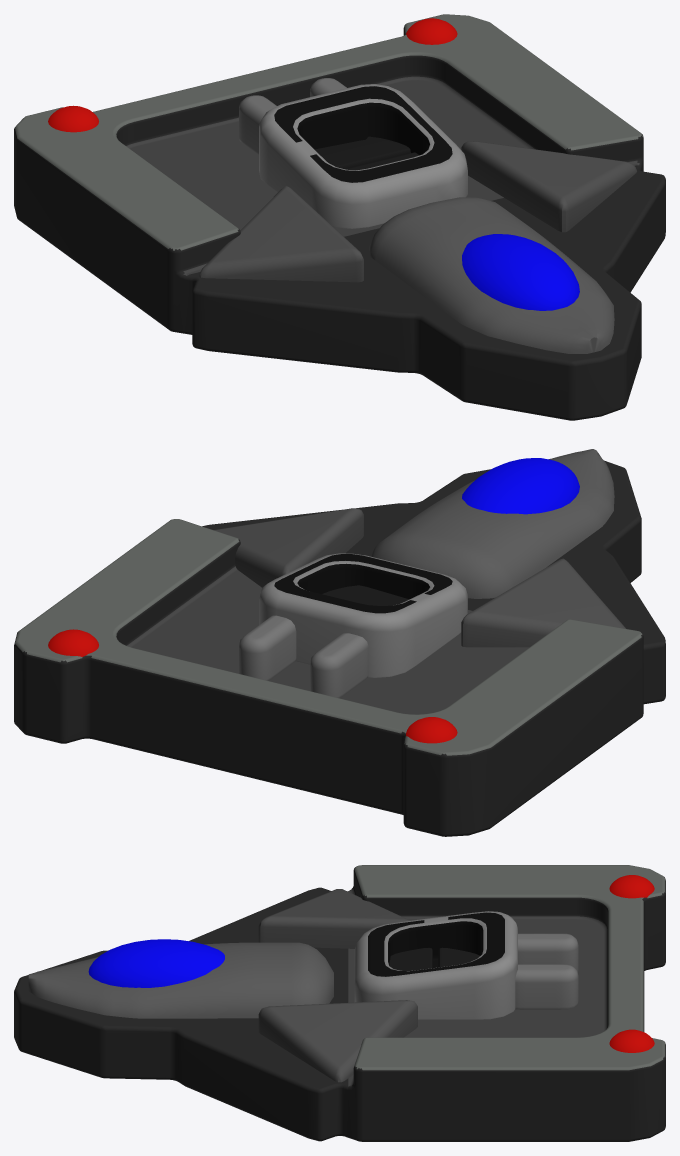
File: hatch_ship.glb
3 renders of one model, top to bottom at view 1: azimuth 30°, elevation 25°; view 2: azimuth 150°, elevation 25°; view 3: azimuth 270°, elevation 25°, orthographic. The views are drawn at different scales.
Parts seen in each view (by area): view 1: hull, hood, keel, plate-1, plate1, canopy, lid1, prong0, lamp1, lamp0; view 2: hull, hood, keel, plate-1, plate1, canopy, prong0, prong1, lamp1, lamp0, lid0; view 3: hull, keel, hood, plate1, plate-1, canopy, prong1, prong0, lid0, lamp0, lamp1, lid1.
Part boxes in pixels (x1,y1,x2,y2): hull: (14, 14, 665, 420); hood: (259, 84, 467, 228); keel: (369, 197, 614, 353); plate-1: (199, 186, 363, 282); plate1: (461, 141, 636, 232); canopy: (462, 234, 579, 310); lid1: (314, 136, 410, 169); prong0: (239, 95, 276, 155); lamp1: (406, 18, 457, 44); lamp0: (48, 105, 98, 132); hull: (14, 460, 665, 836); hood: (259, 553, 467, 677); keel: (371, 449, 614, 598); plate-1: (461, 558, 625, 647); plate1: (213, 508, 363, 587); canopy: (462, 458, 579, 514); prong0: (310, 633, 368, 698); prong1: (239, 615, 296, 680); lamp1: (48, 629, 98, 656); lamp0: (406, 717, 457, 743); lid0: (322, 585, 408, 605); hull: (14, 865, 665, 1141); keel: (28, 942, 333, 1018); hood: (354, 911, 517, 1019); plate1: (258, 1000, 417, 1082); plate-1: (258, 889, 409, 948); canopy: (88, 939, 224, 987); prong1: (515, 964, 578, 1009); prong0: (518, 933, 578, 972); lid0: (389, 948, 432, 970); lamp0: (609, 875, 654, 898); lamp1: (609, 1029, 654, 1052); lid1: (438, 947, 479, 967).
Size of the model in its own units: 20 by 4.77 by 26.9.
